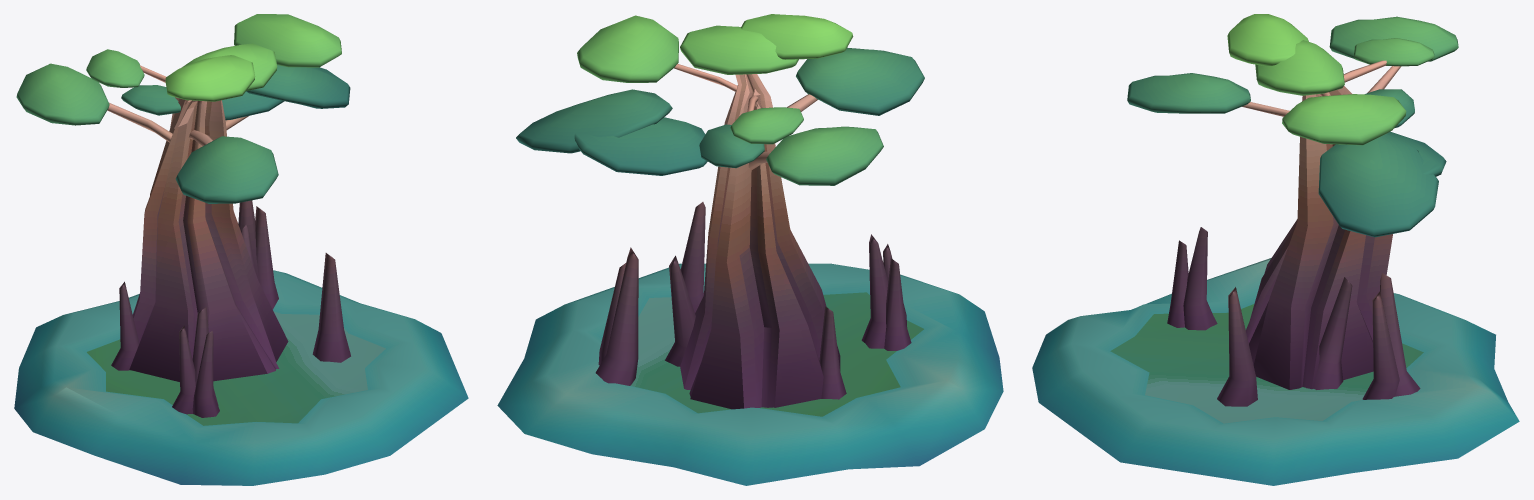
The model's file is TreeSwamp.fbx.
The picture shows the model from 3 angles, left to right: view 1: azimuth 30°, elevation 25°; view 2: azimuth 150°, elevation 25°; view 3: azimuth 270°, elevation 25°; orthographic projection. The views are drawn at different scales.
Parts seen in each view (by area): view 1: pCylinder232; view 2: pCylinder232; view 3: pCylinder232.
Part boxes in pixels (left/top/right/bottom): pCylinder232: left=14, top=14, right=468, bottom=485; pCylinder232: left=497, top=14, right=1003, bottom=485; pCylinder232: left=1032, top=14, right=1519, bottom=485.
Size of the model in its own units: 14.42 by 12.03 by 14.35.
